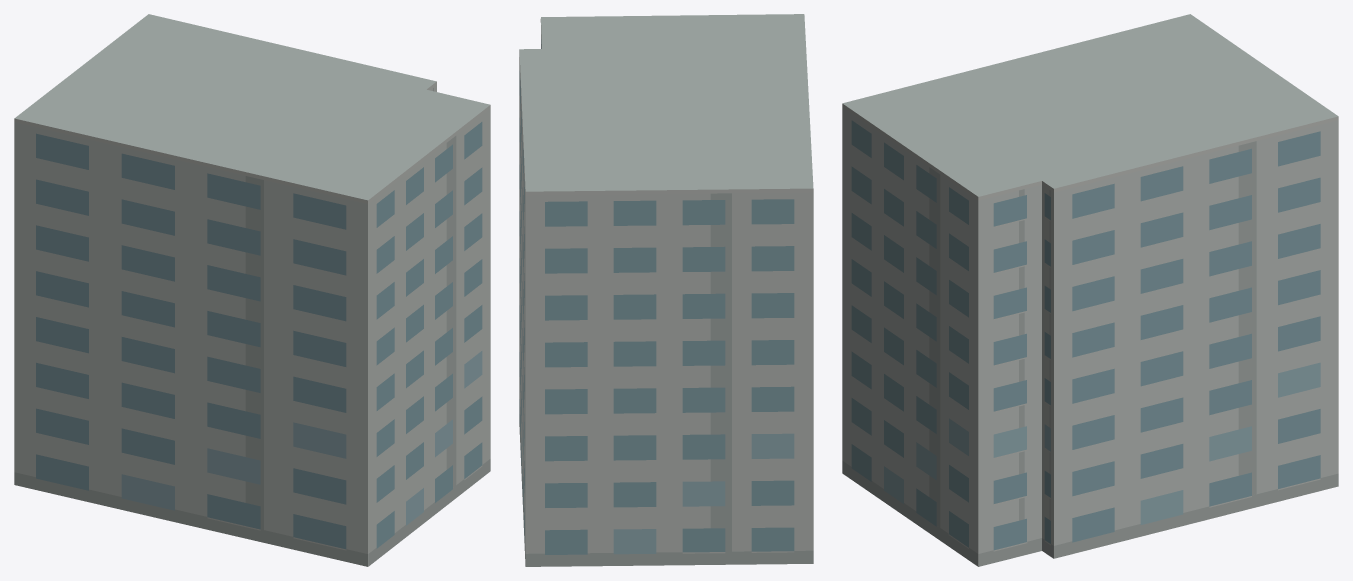
File: survey-upis-32741474.glb
The picture shows the model from 3 angles, left to right: view 1: azimuth 30°, elevation 25°; view 2: azimuth 150°, elevation 25°; view 3: azimuth 270°, elevation 25°; orthographic projection. The views are drawn at different scales.
Parts seen in each view (by area): view 1: survey-upis-32741474.tmp; view 2: survey-upis-32741474.tmp; view 3: survey-upis-32741474.tmp.
Part boxes in pixels (left/top/right/bottom): survey-upis-32741474.tmp: left=14, top=14, right=490, bottom=566; survey-upis-32741474.tmp: left=519, top=14, right=813, bottom=566; survey-upis-32741474.tmp: left=842, top=14, right=1338, bottom=566.
Bounding box in the file's own units: 24.92 × 23.5 × 28.58.
